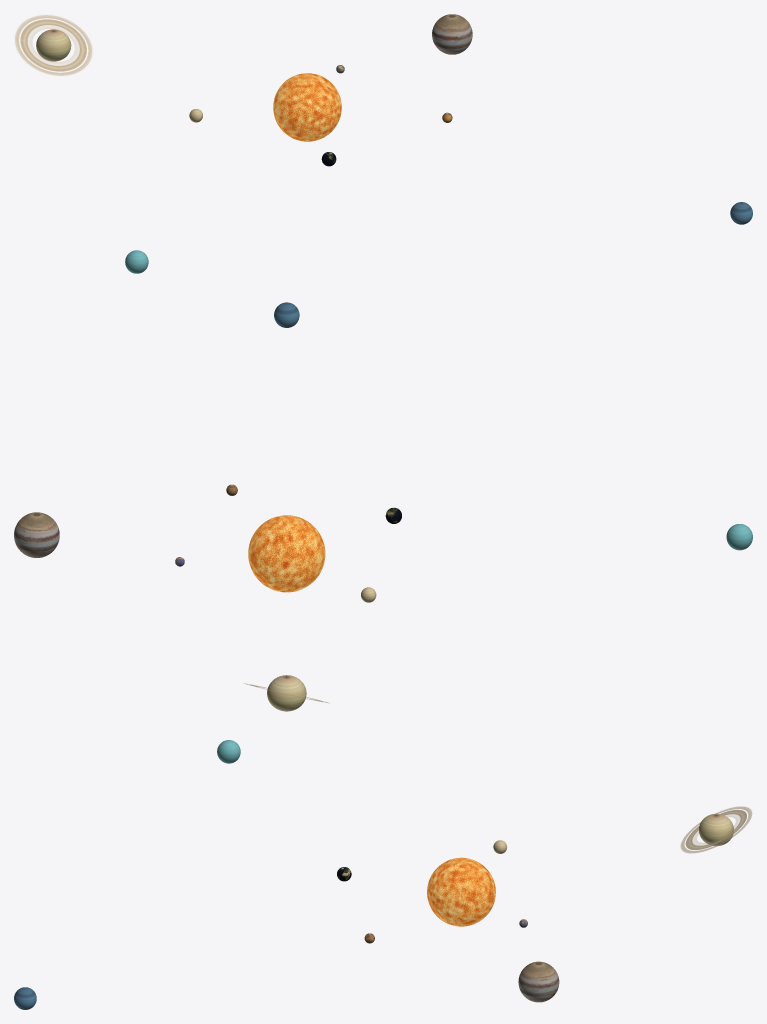
Rendered from sistema-solar-m.glb.
3 views of the same model, one above another, from view 1: azimuth 30°, elevation 25°; view 2: azimuth 150°, elevation 25°; view 3: azimuth 270°, elevation 25° (orthographic). The views are drawn at different scales.
Visible parts, largest first — view 1: sol, saturno-aneis, jupiter, saturno, urano; view 2: sol, jupiter, saturno; view 3: sol, jupiter, saturno-aneis, saturno, urano.
Boxes of the visible parts, left/top/right/bottom form: sol: left=273, top=73, right=341, bottom=141; saturno-aneis: left=15, top=15, right=92, bottom=75; jupiter: left=432, top=14, right=472, bottom=54; saturno: left=36, top=29, right=71, bottom=61; urano: left=125, top=250, right=148, bottom=273; sol: left=248, top=515, right=325, bottom=592; jupiter: left=14, top=512, right=59, bottom=557; saturno: left=267, top=675, right=306, bottom=711; sol: left=427, top=857, right=495, bottom=926; jupiter: left=518, top=961, right=559, bottom=1002; saturno-aneis: left=680, top=806, right=752, bottom=853; saturno: left=699, top=813, right=733, bottom=845; urano: left=217, top=740, right=240, bottom=763.
Bounding box in the file's own units: 28.23 × 3.2 × 34.36.
Materials: 10 (10 with a texture image).
